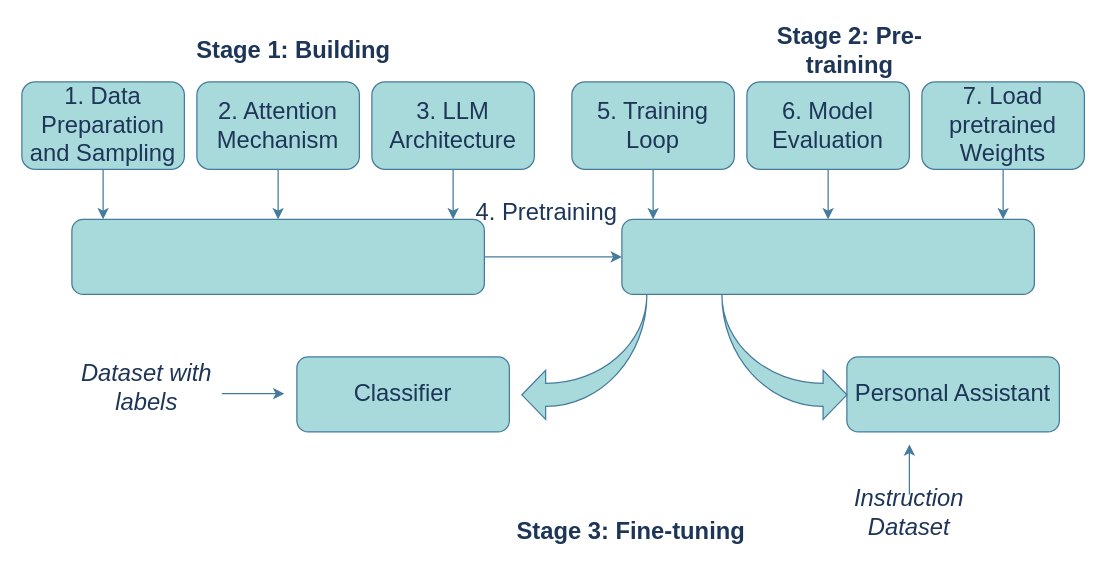
Some shapes in this 1106 by 571 pixel diagram are drawn without their labels. Each missing label, with the centre of its shape:
"Building LLM" goes at pixel 277 256.
"Foundation Model" goes at pixel 827 256.
